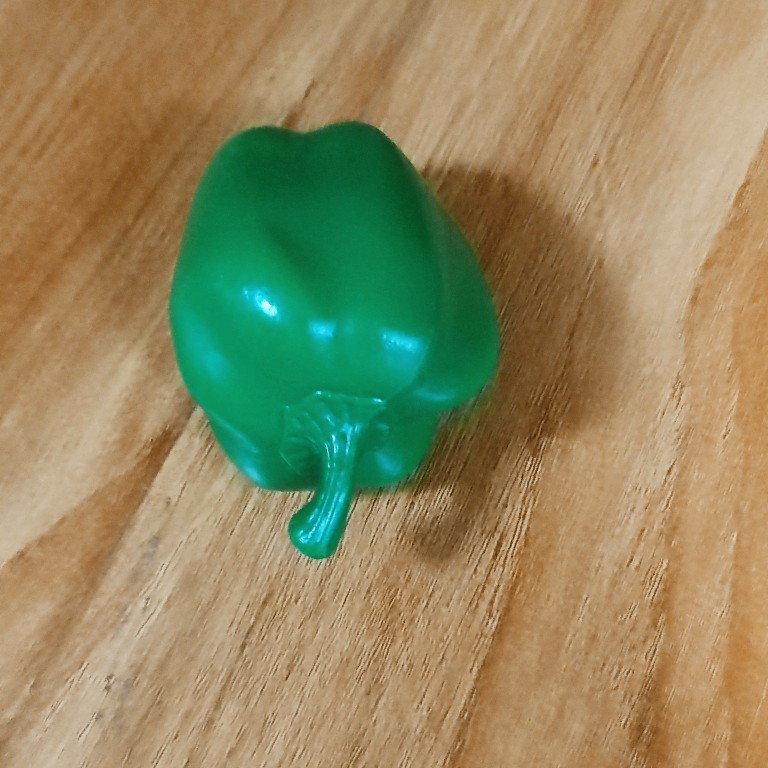fruit_pepper: (161, 113, 513, 568)
